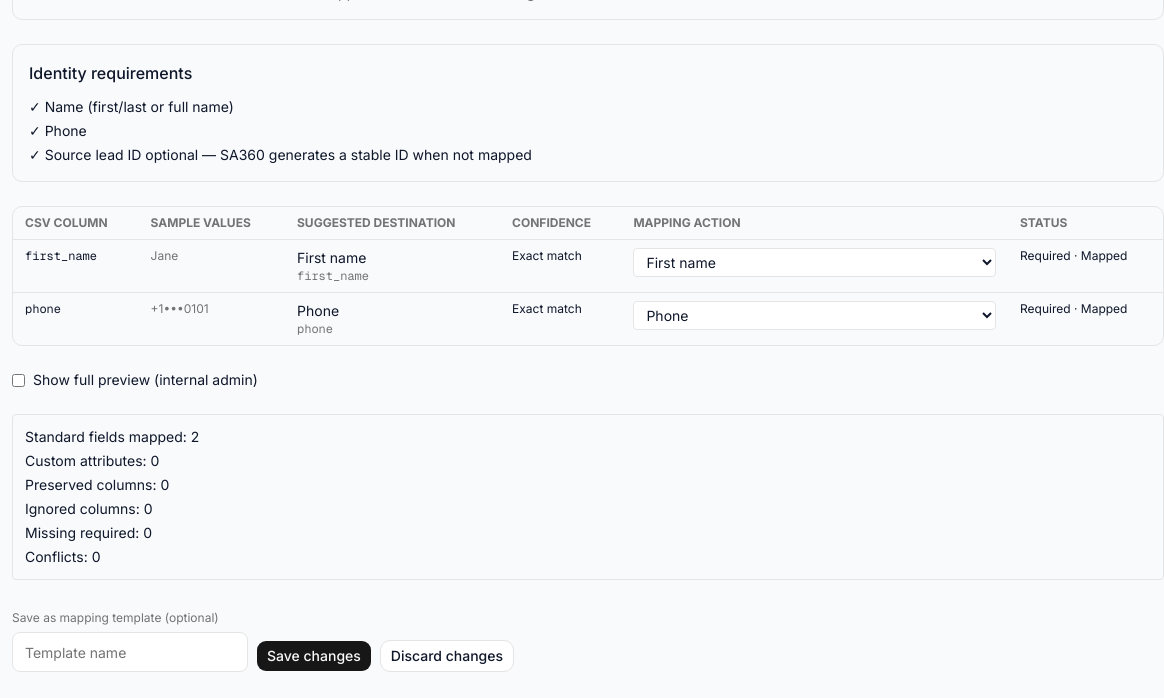
Test: already-confirmed unchanged mapping remains a no-op
The image size is (1164, 698).
(page scrolled)
Step 1. Click the button "Save changes" → (314, 656), box [256, 640, 372, 672]
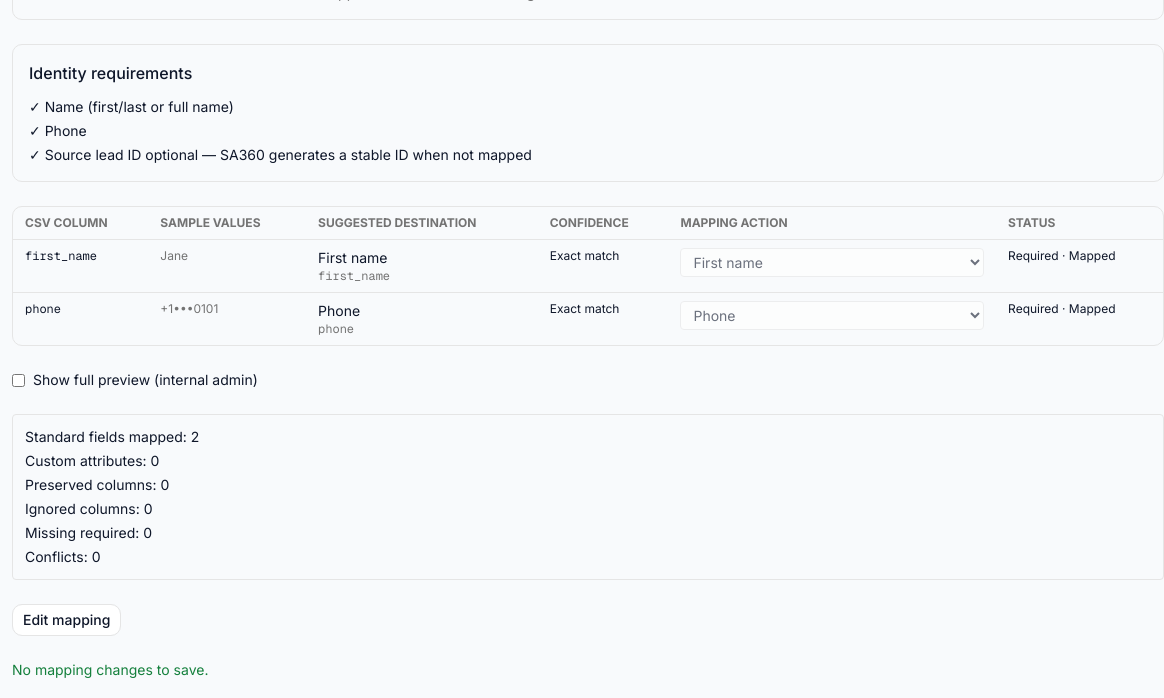
Expected: the text "No mapping changes to save." is shown, [12, 661, 208, 678]
